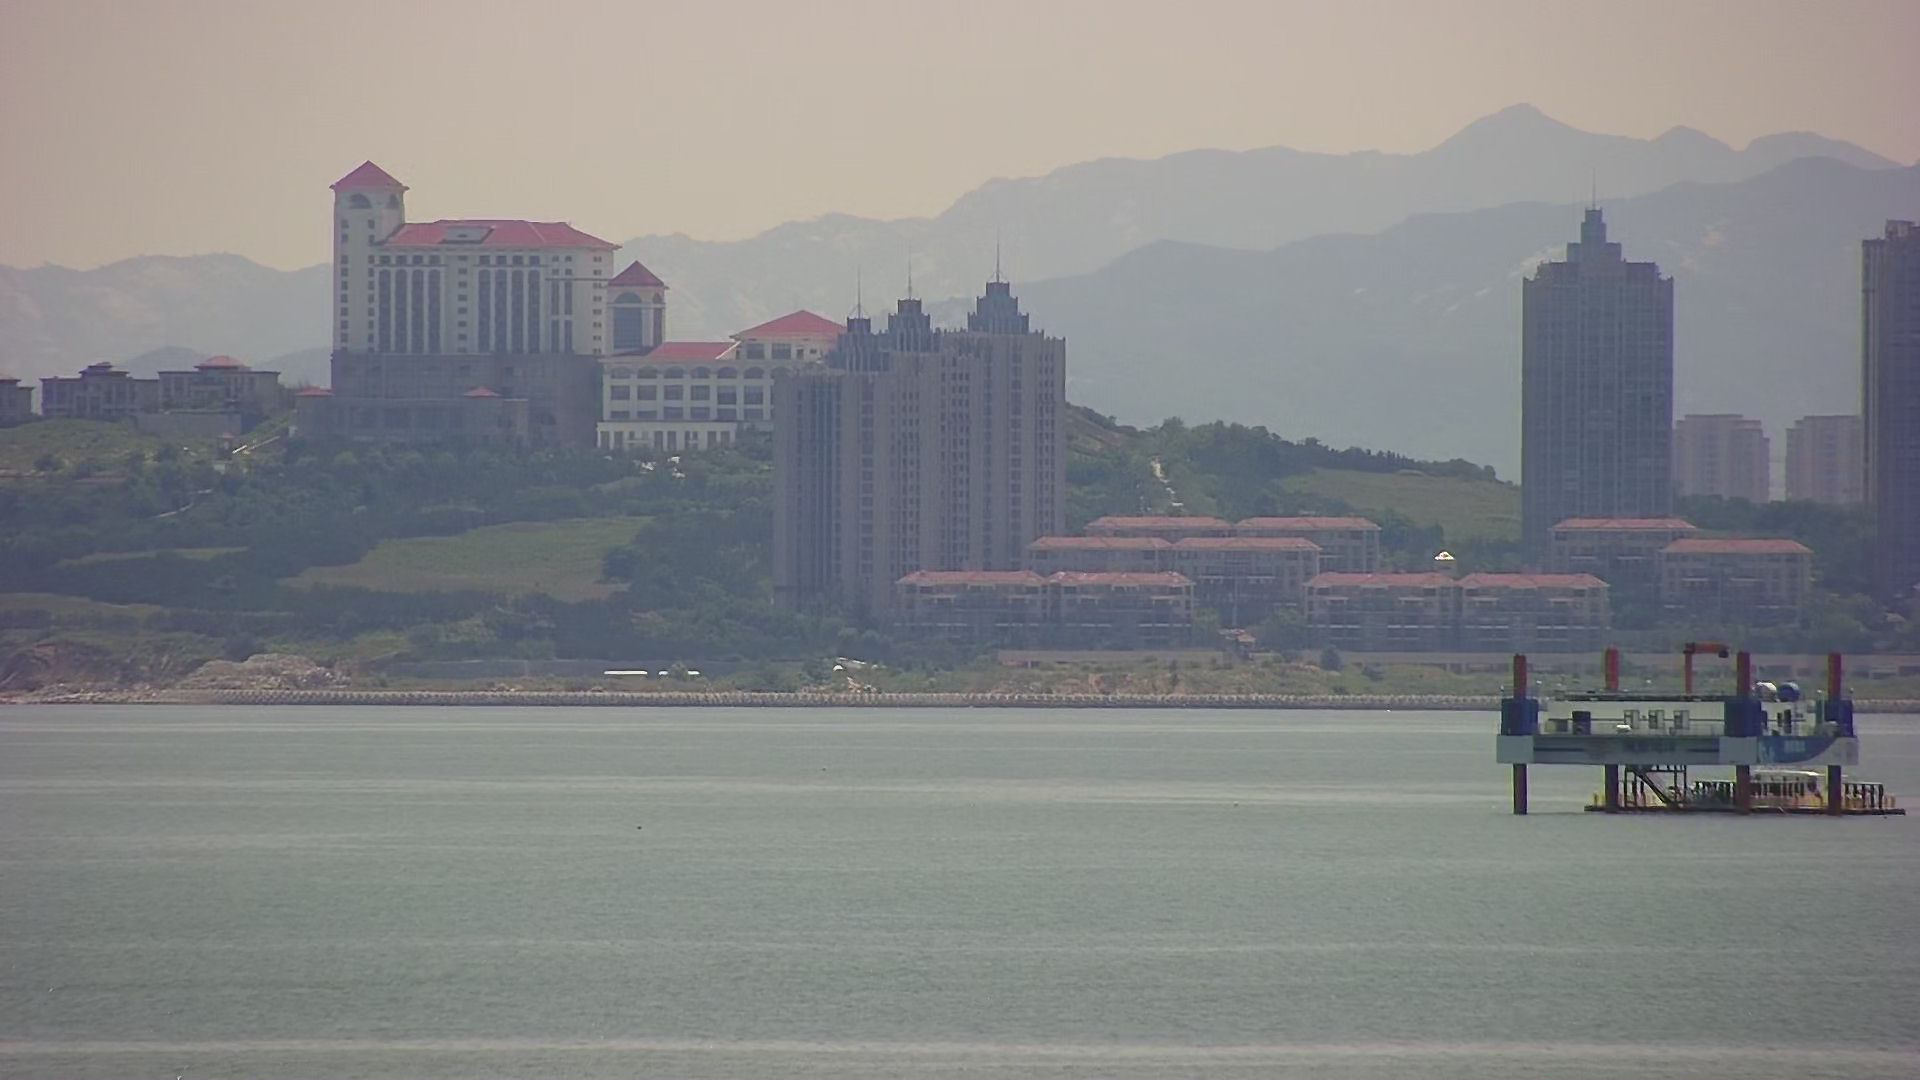platform: (1493, 653, 1908, 820)
